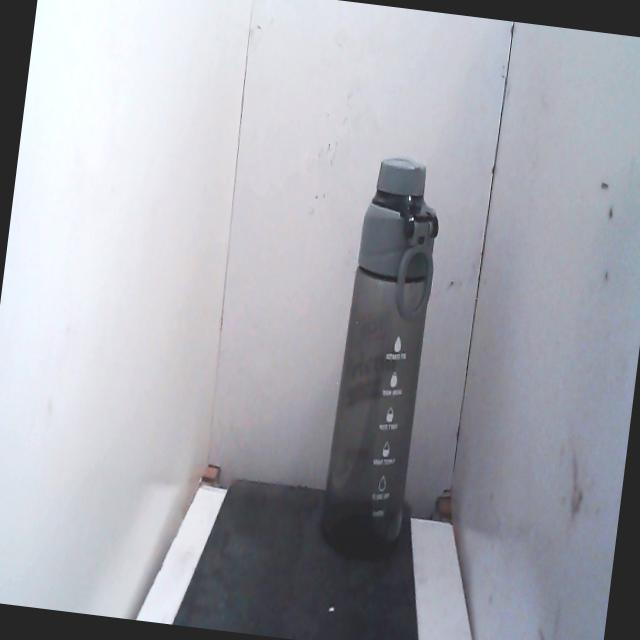plastic: (302, 138, 462, 566)
